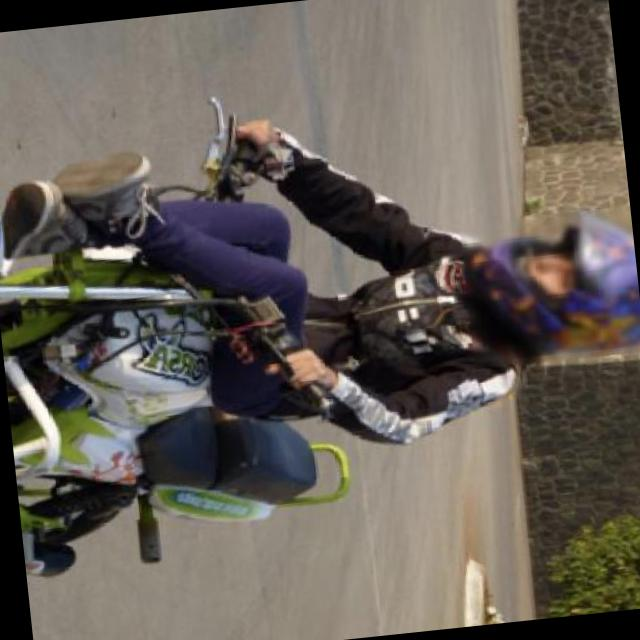With Helmet: (457, 205, 640, 368)
